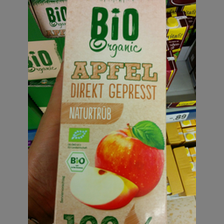juice: (54, 1, 170, 224)
